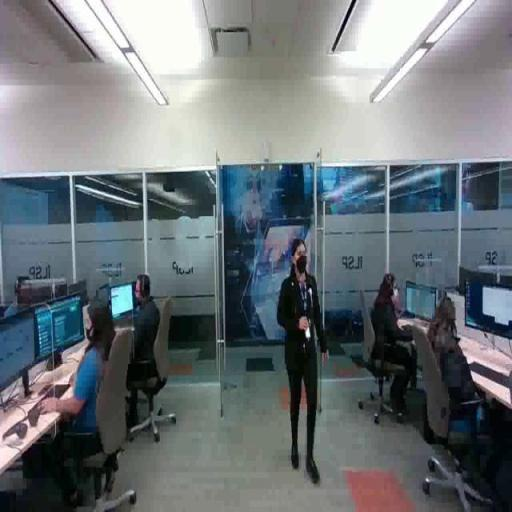person: (277, 236, 331, 491)
